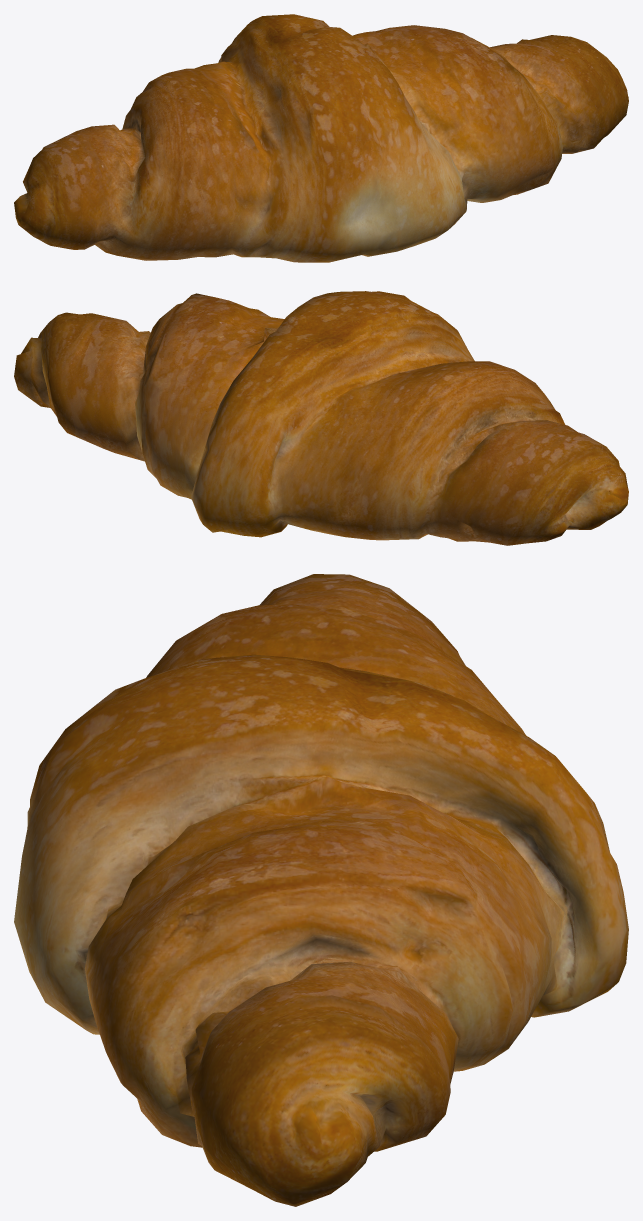
File: Croissant.fbx
3 renders of one model, top to bottom at view 1: azimuth 30°, elevation 25°; view 2: azimuth 150°, elevation 25°; view 3: azimuth 270°, elevation 25°, orthographic. The views are drawn at different scales.
Visible parts, largest first — view 1: ps_sbxCroissant; view 2: ps_sbxCroissant; view 3: ps_sbxCroissant.
Boxes of the visible parts, <box> form: ps_sbxCroissant: <box>14,14,628,262</box>; ps_sbxCroissant: <box>14,291,628,545</box>; ps_sbxCroissant: <box>14,574,628,1206</box>.
Bounding box in the file's own units: 27.79 × 7.6 × 14.1.
